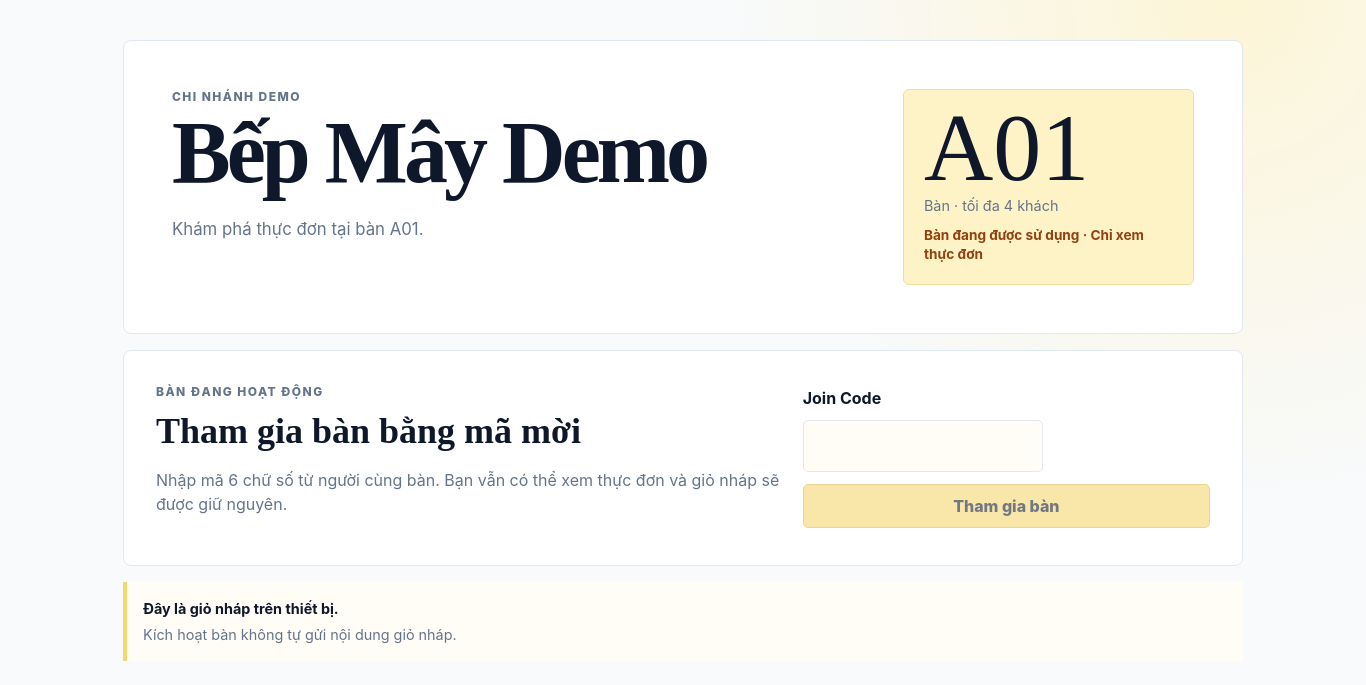
Test case: M2.7 Host and Join experience › reuses the Join operation key after an ambiguous HTTP 502
Expected: the heading "Tham gia bàn bằng mã mời" is shown, [156,411,581,451]
Type "482193" into the field labelled "Join Code".
click(923, 446); type("482193")  # box [803,420,1043,472]
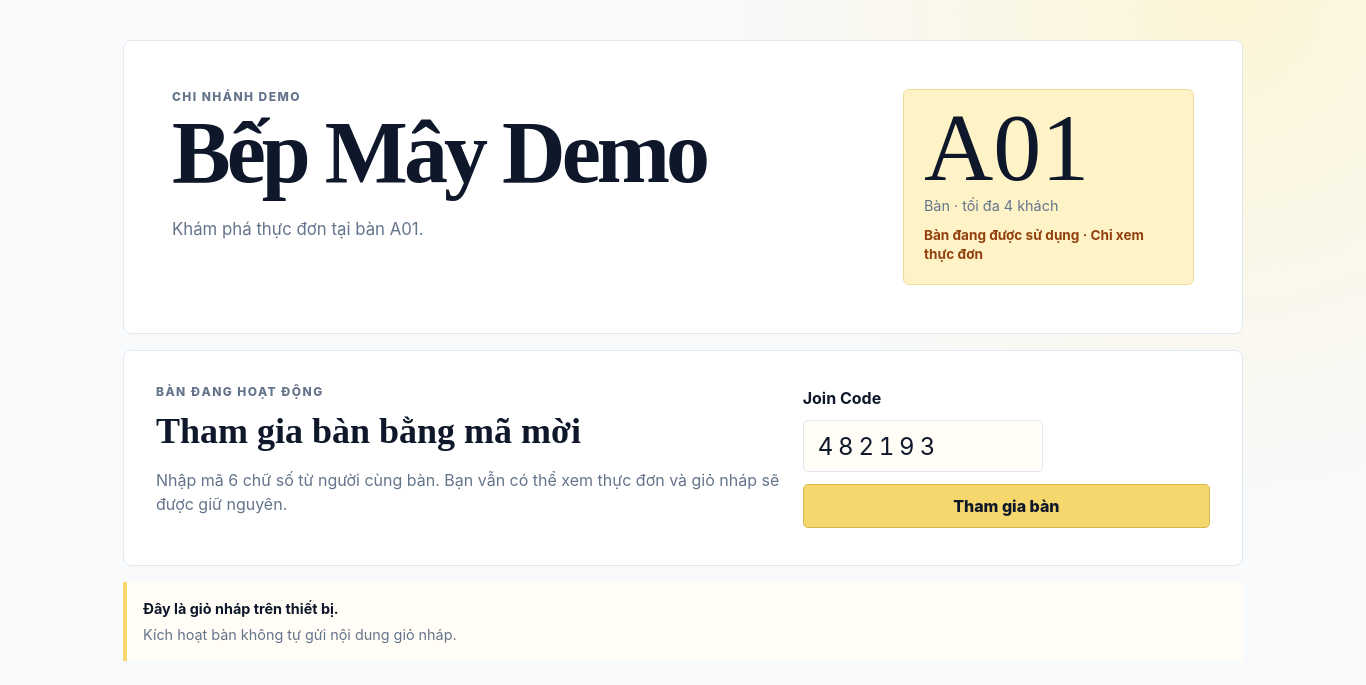
Click the button "Tham gia bàn".
click(1006, 506)  # box [803,484,1210,528]
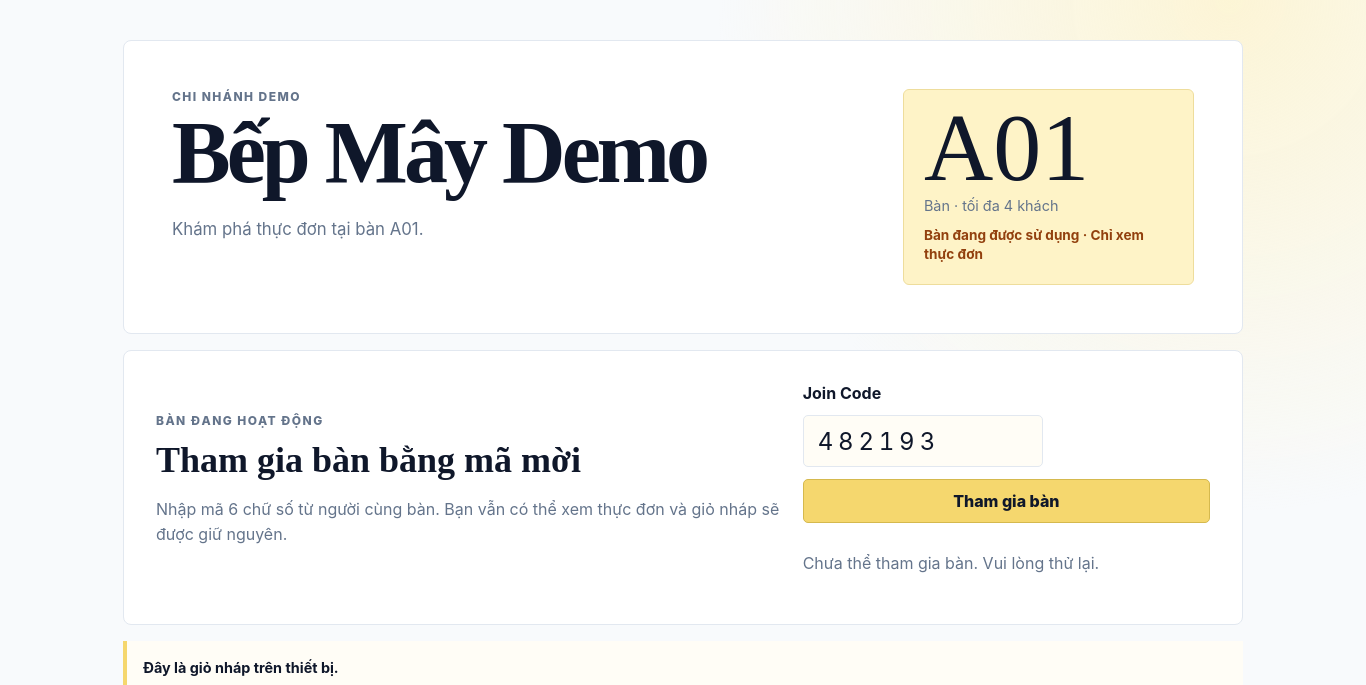
Result: the text "Chưa thể tham gia bàn. Vui lòng thử lại." is shown at [803,553,1099,573]
Click the button "Tham gia bàn".
click(1006, 501)  # box [803,479,1210,523]
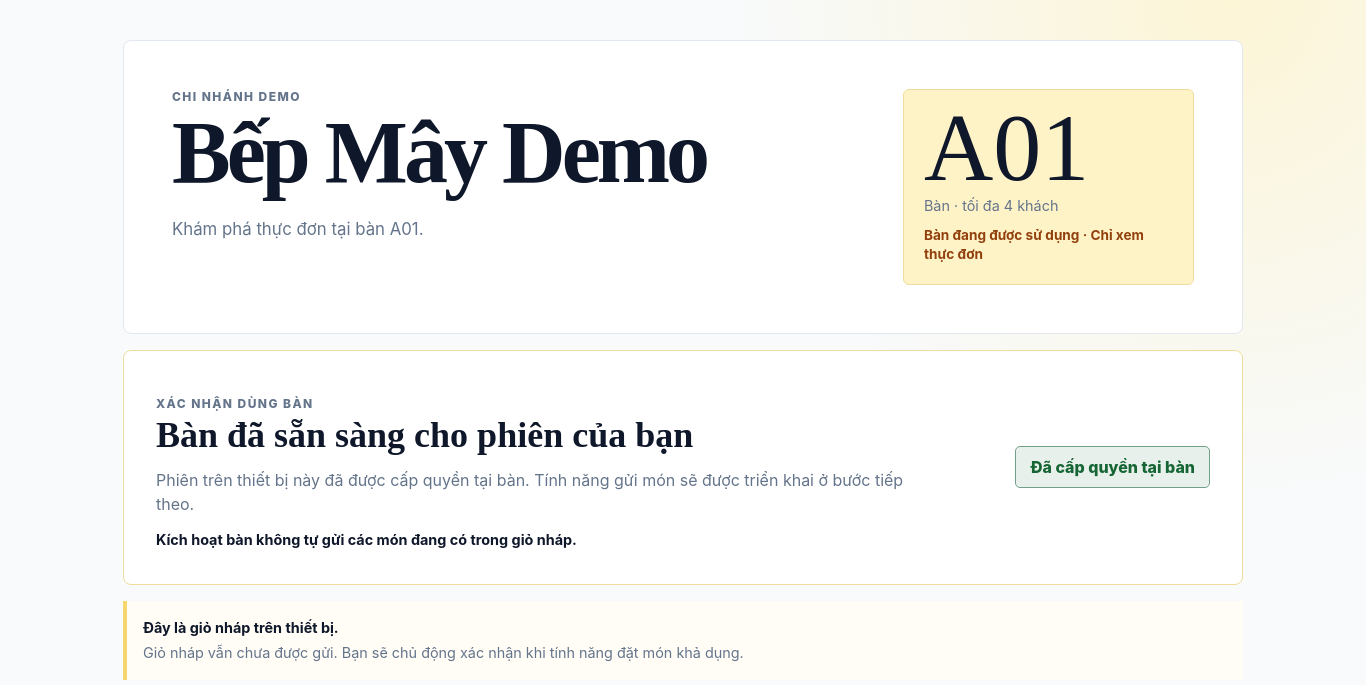
Result: the text "Đã cấp quyền tại bàn" is shown at [1015,446,1210,488]
